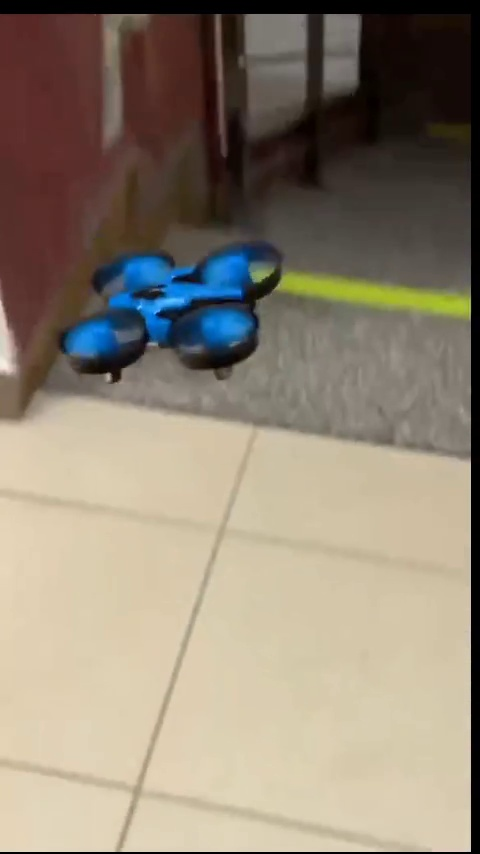drone: (71, 246, 280, 378)
